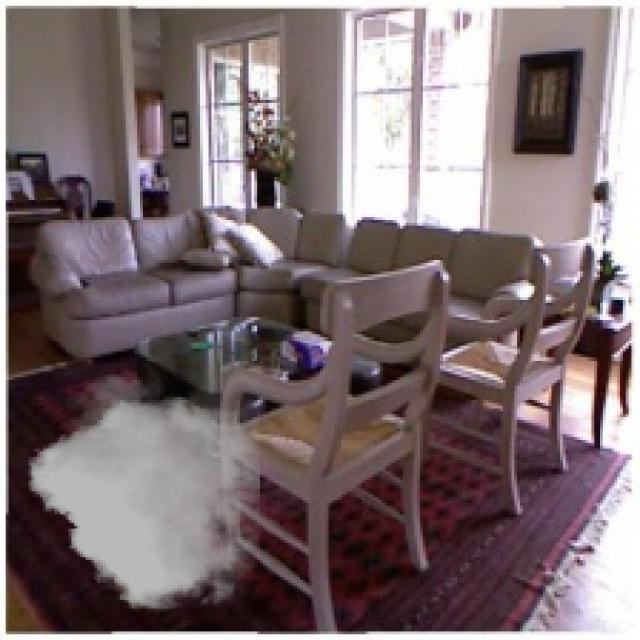Smoke: (28, 368, 260, 614)
